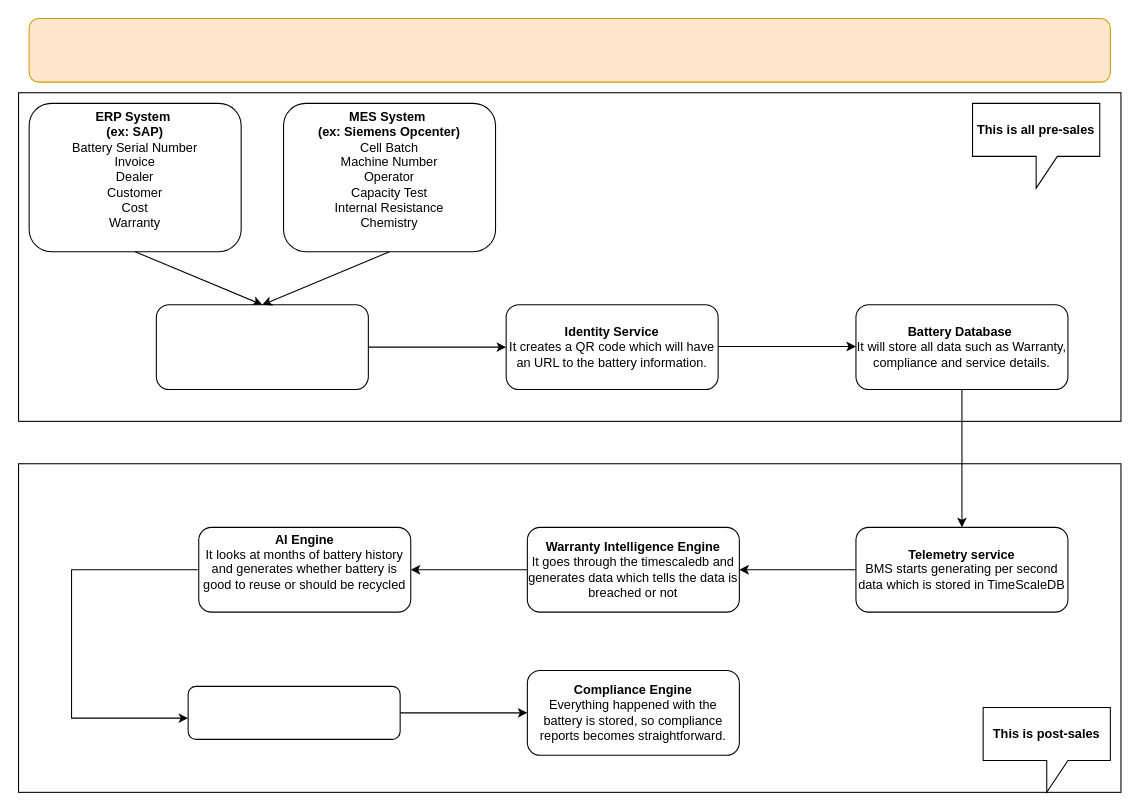
This 1139x811 diagram has some shape labels left out. The shapes that lost their labels are listed below. From the top down, each one's box as (x1, y1, x2, y2) in pixels, then its label:
(28, 17, 1110, 82): LoopLon High Level Data Flow Diagram
(155, 304, 368, 390): ERP/MES Bridge It converts all data into a common format
(187, 685, 400, 739): B2B Marketplace
